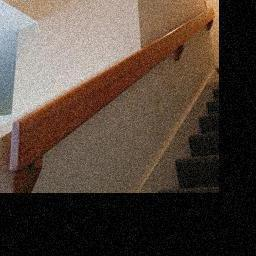Escaleras: (14, 6, 215, 192)
